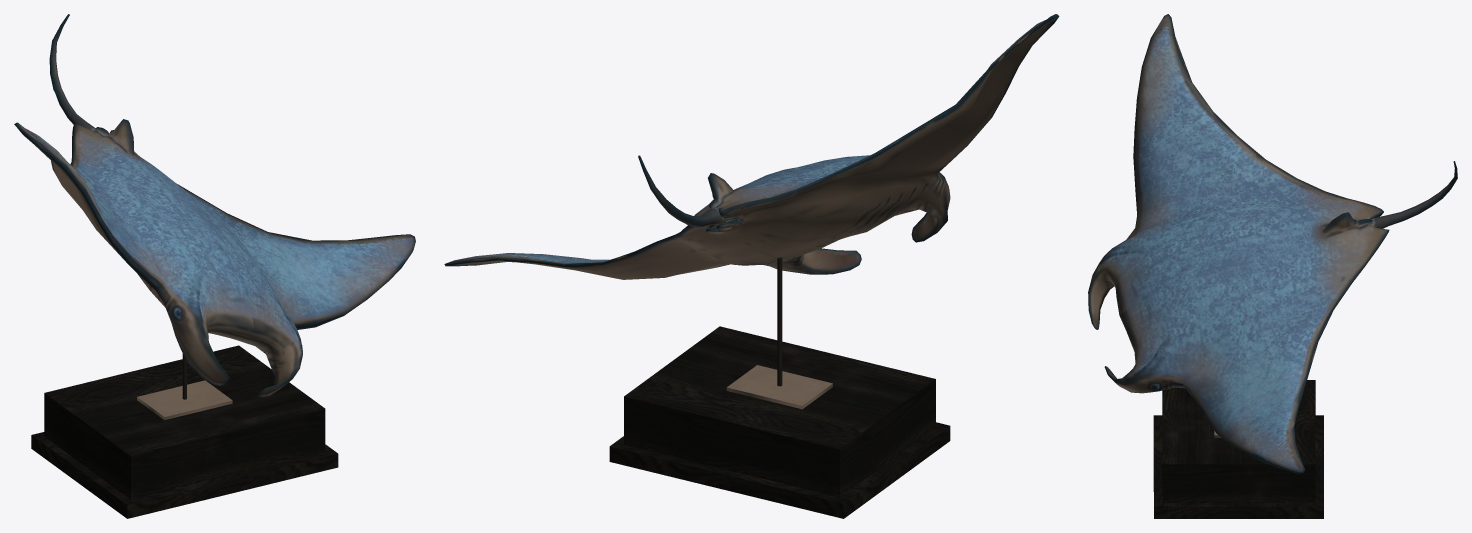
The model's file is bronze_ray_statue.glb.
3 views of the same model, side by side, from view 1: azimuth 30°, elevation 25°; view 2: azimuth 150°, elevation 25°; view 3: azimuth 270°, elevation 25° (orthographic). The views are drawn at different scales.
Parts seen in each view (by area): view 1: bronze_ray_statue; view 2: bronze_ray_statue; view 3: bronze_ray_statue.
Part boxes in pixels (box(x1,y1,x2,y2)): bronze_ray_statue: box(14, 14, 415, 518); bronze_ray_statue: box(444, 14, 1059, 518); bronze_ray_statue: box(1088, 14, 1457, 518).
Size of the model in its own units: 0.7075 by 0.5896 by 0.5355.
1 material, 1 textured.
